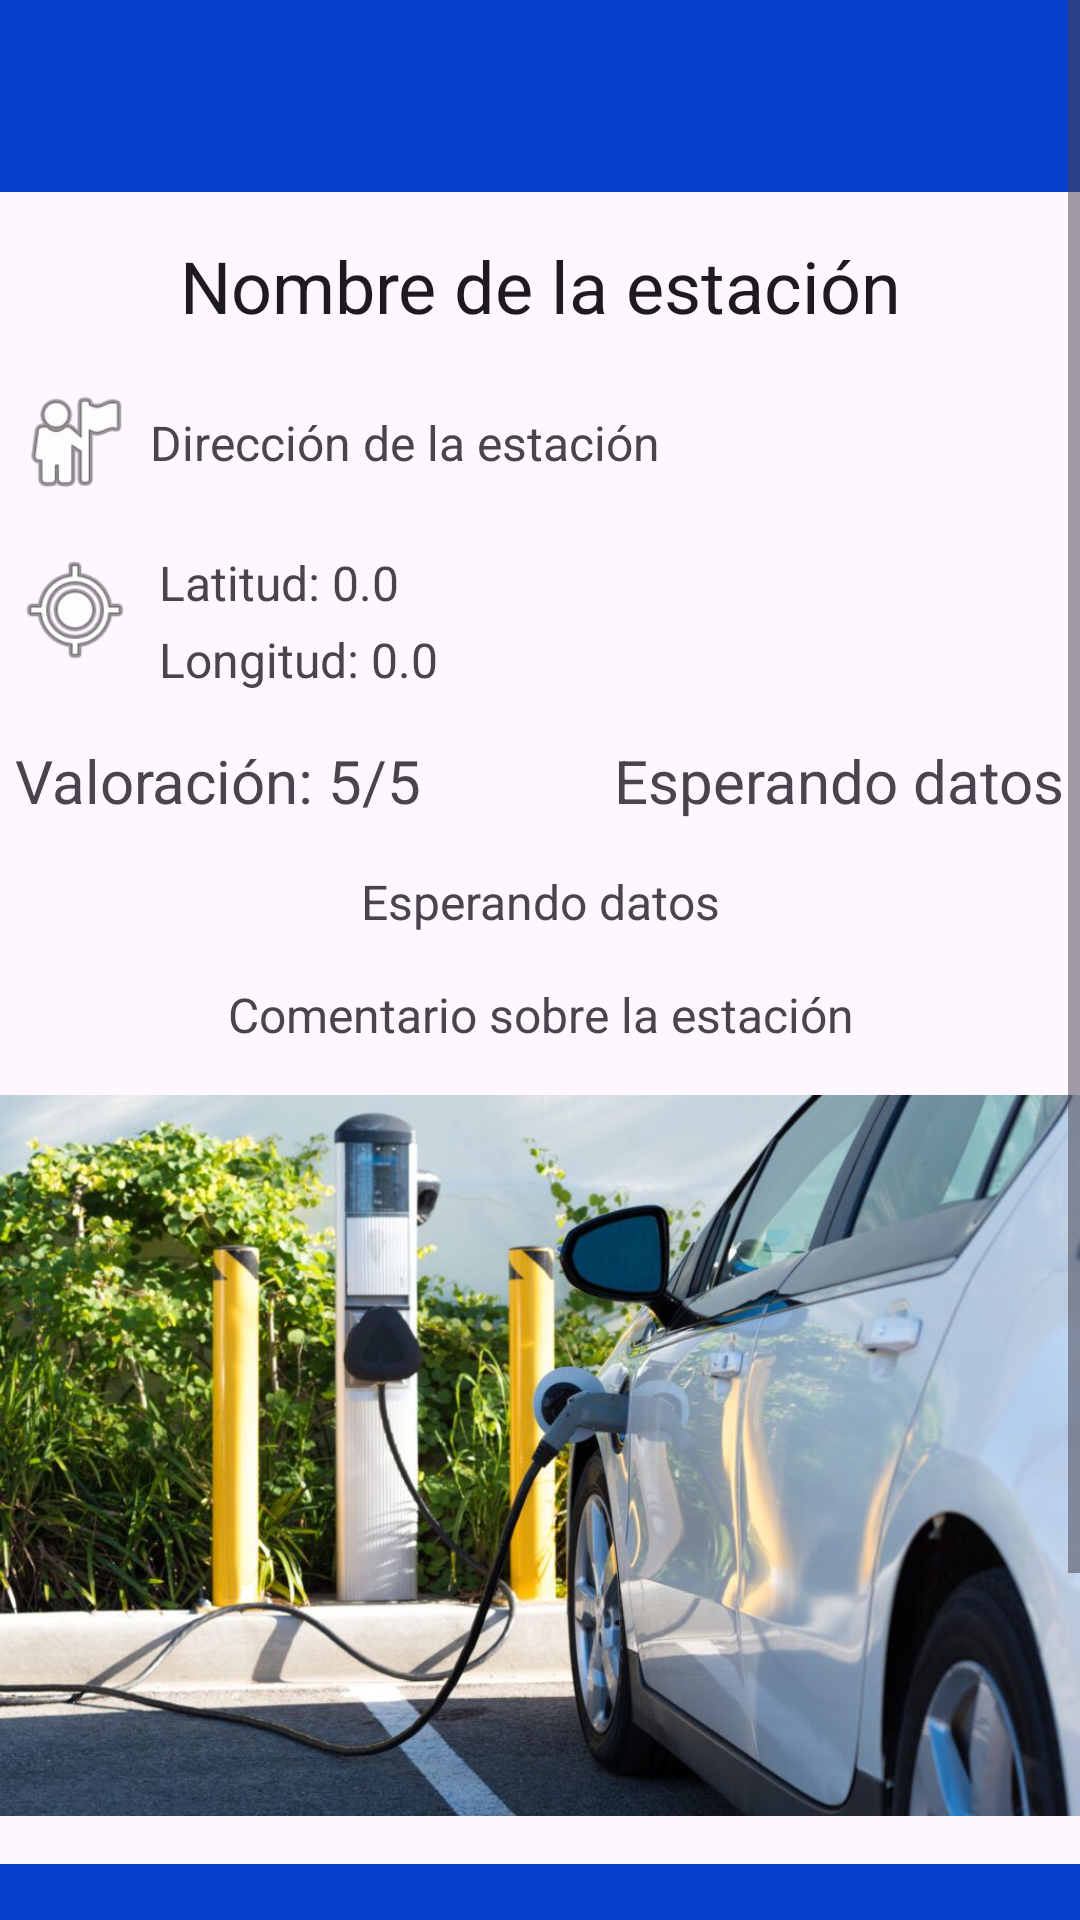

Where to tap for icons on this 1080 × 1920 app screen, as point (x, y):
mylocation: point (75, 610)
myplaces: point (76, 442)
